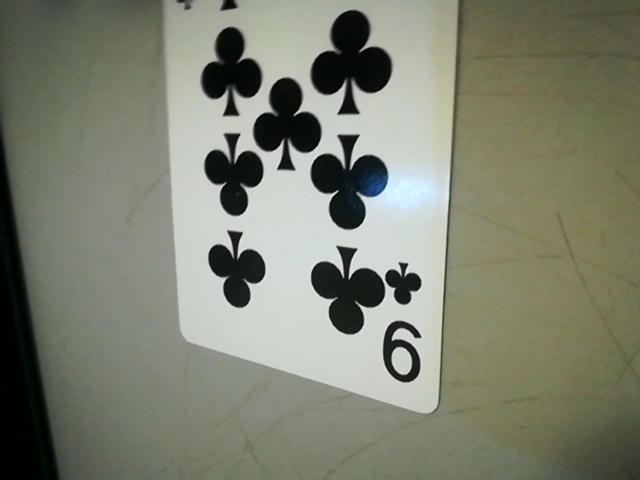mh 9: (377, 258, 437, 398)
